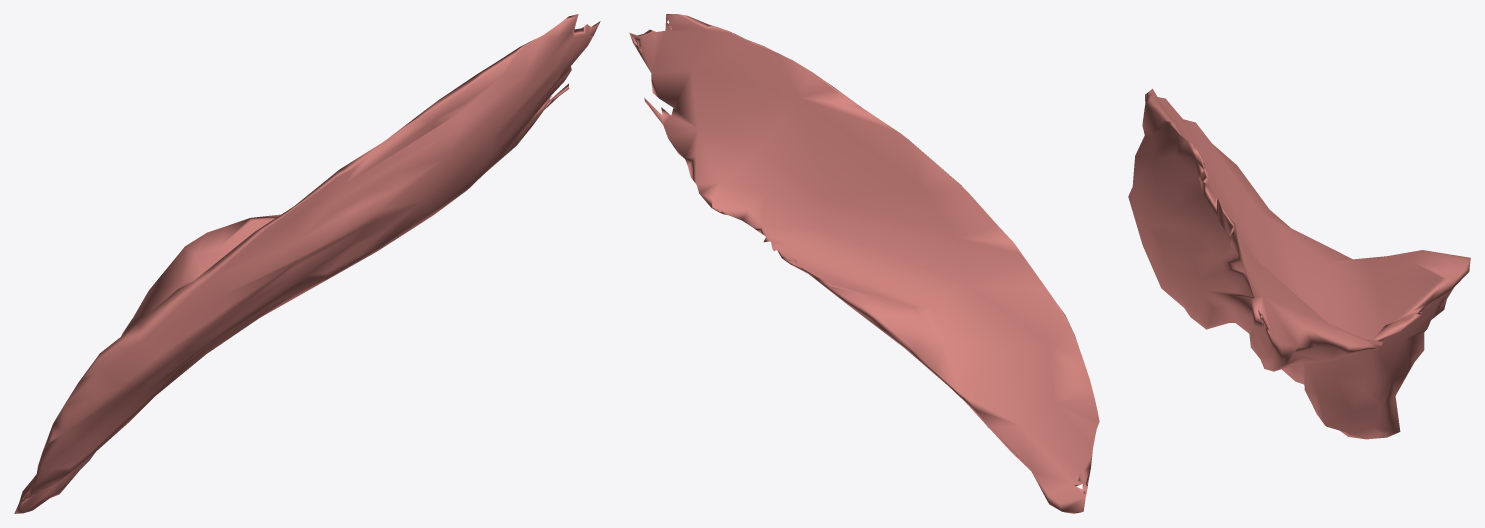
The model's file is fma46797_mm1087.glb.
3 renders of one model, left to right at view 1: azimuth 30°, elevation 25°; view 2: azimuth 150°, elevation 25°; view 3: azimuth 270°, elevation 25°, orthographic. The views are drawn at different scales.
Parts seen in each view (by area): view 1: FMA46797_MM1087; view 2: FMA46797_MM1087; view 3: FMA46797_MM1087.
Part boxes in pixels (box(x1,y1,x2,y2)): FMA46797_MM1087: box(14, 14, 600, 513); FMA46797_MM1087: box(629, 14, 1099, 513); FMA46797_MM1087: box(1128, 89, 1470, 439).
Bounding box in the file's own units: 0.0244 × 0.0174 × 0.00746.
